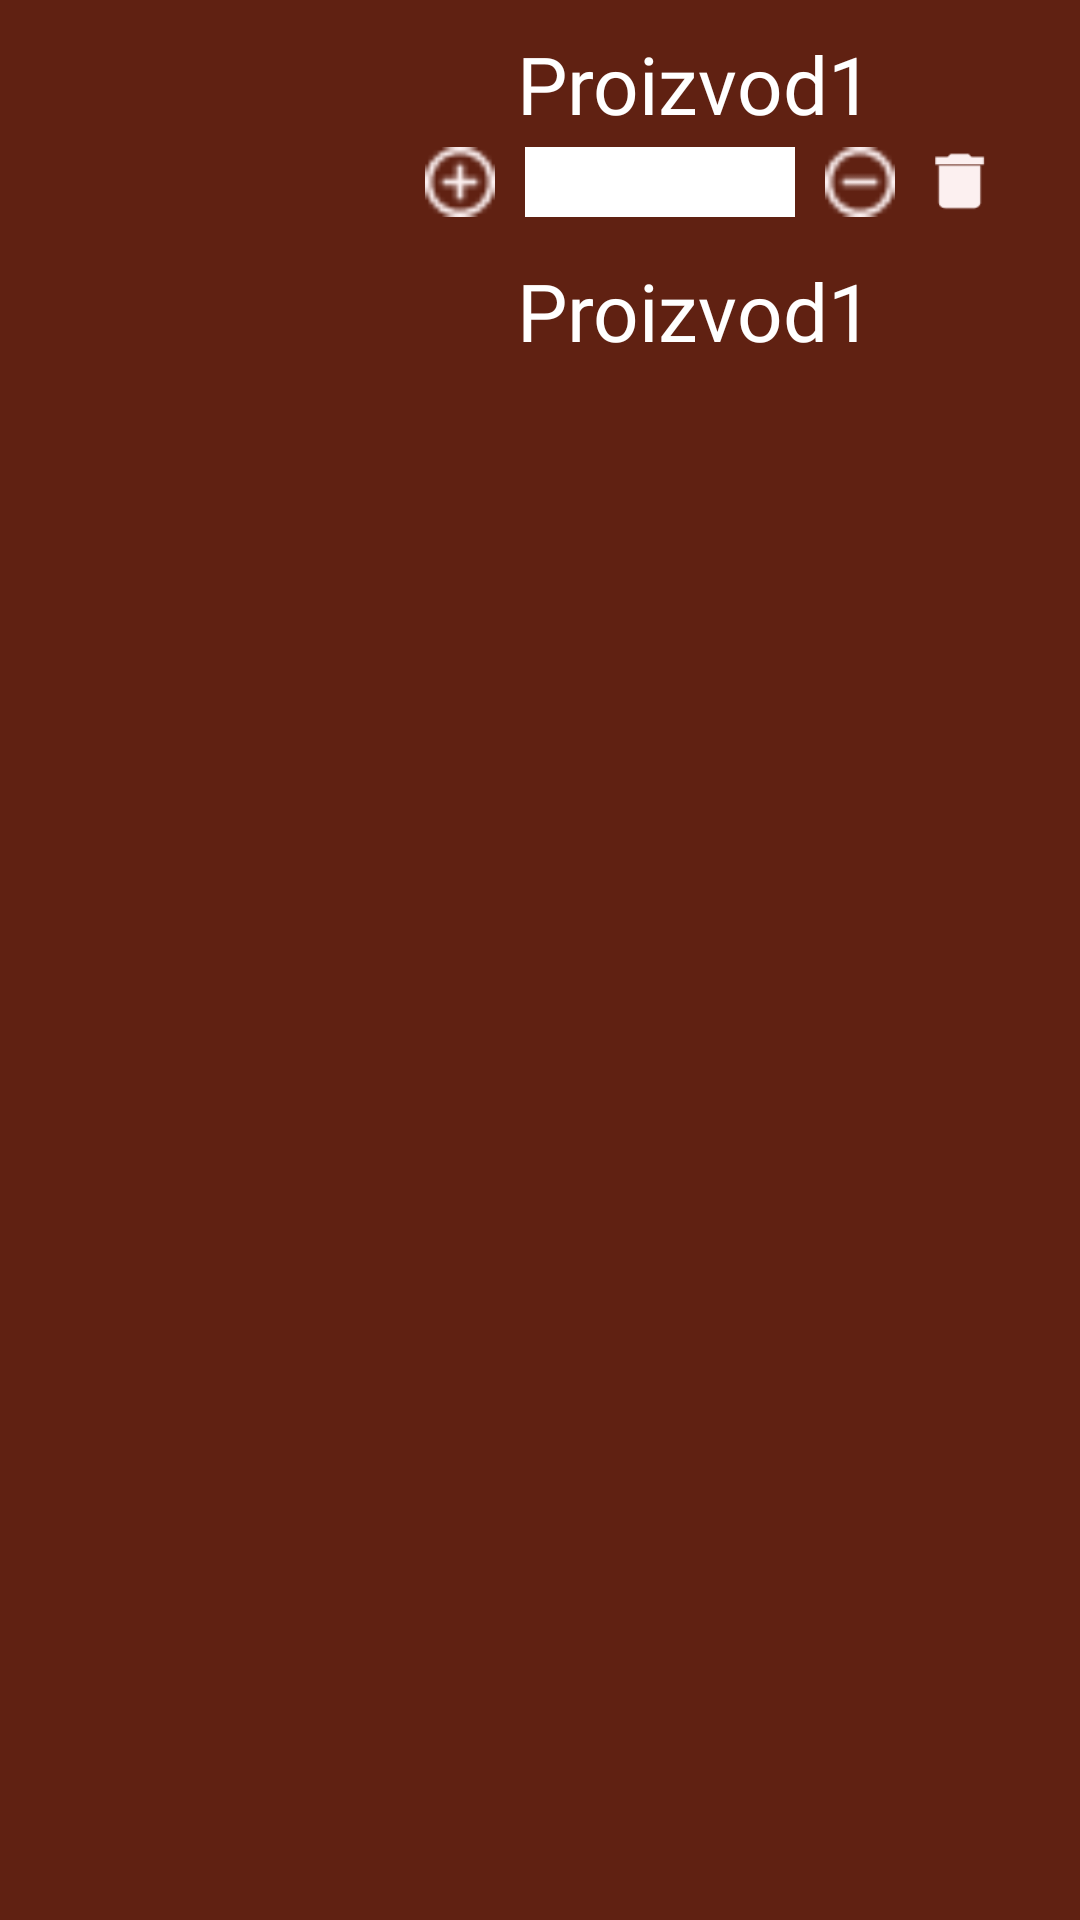

Icons on this 1080px x 1920px Android screen, each with the point to tap as point (x, y):
delete: point (960, 181)
minus: point (860, 182)
plus: point (460, 182)
